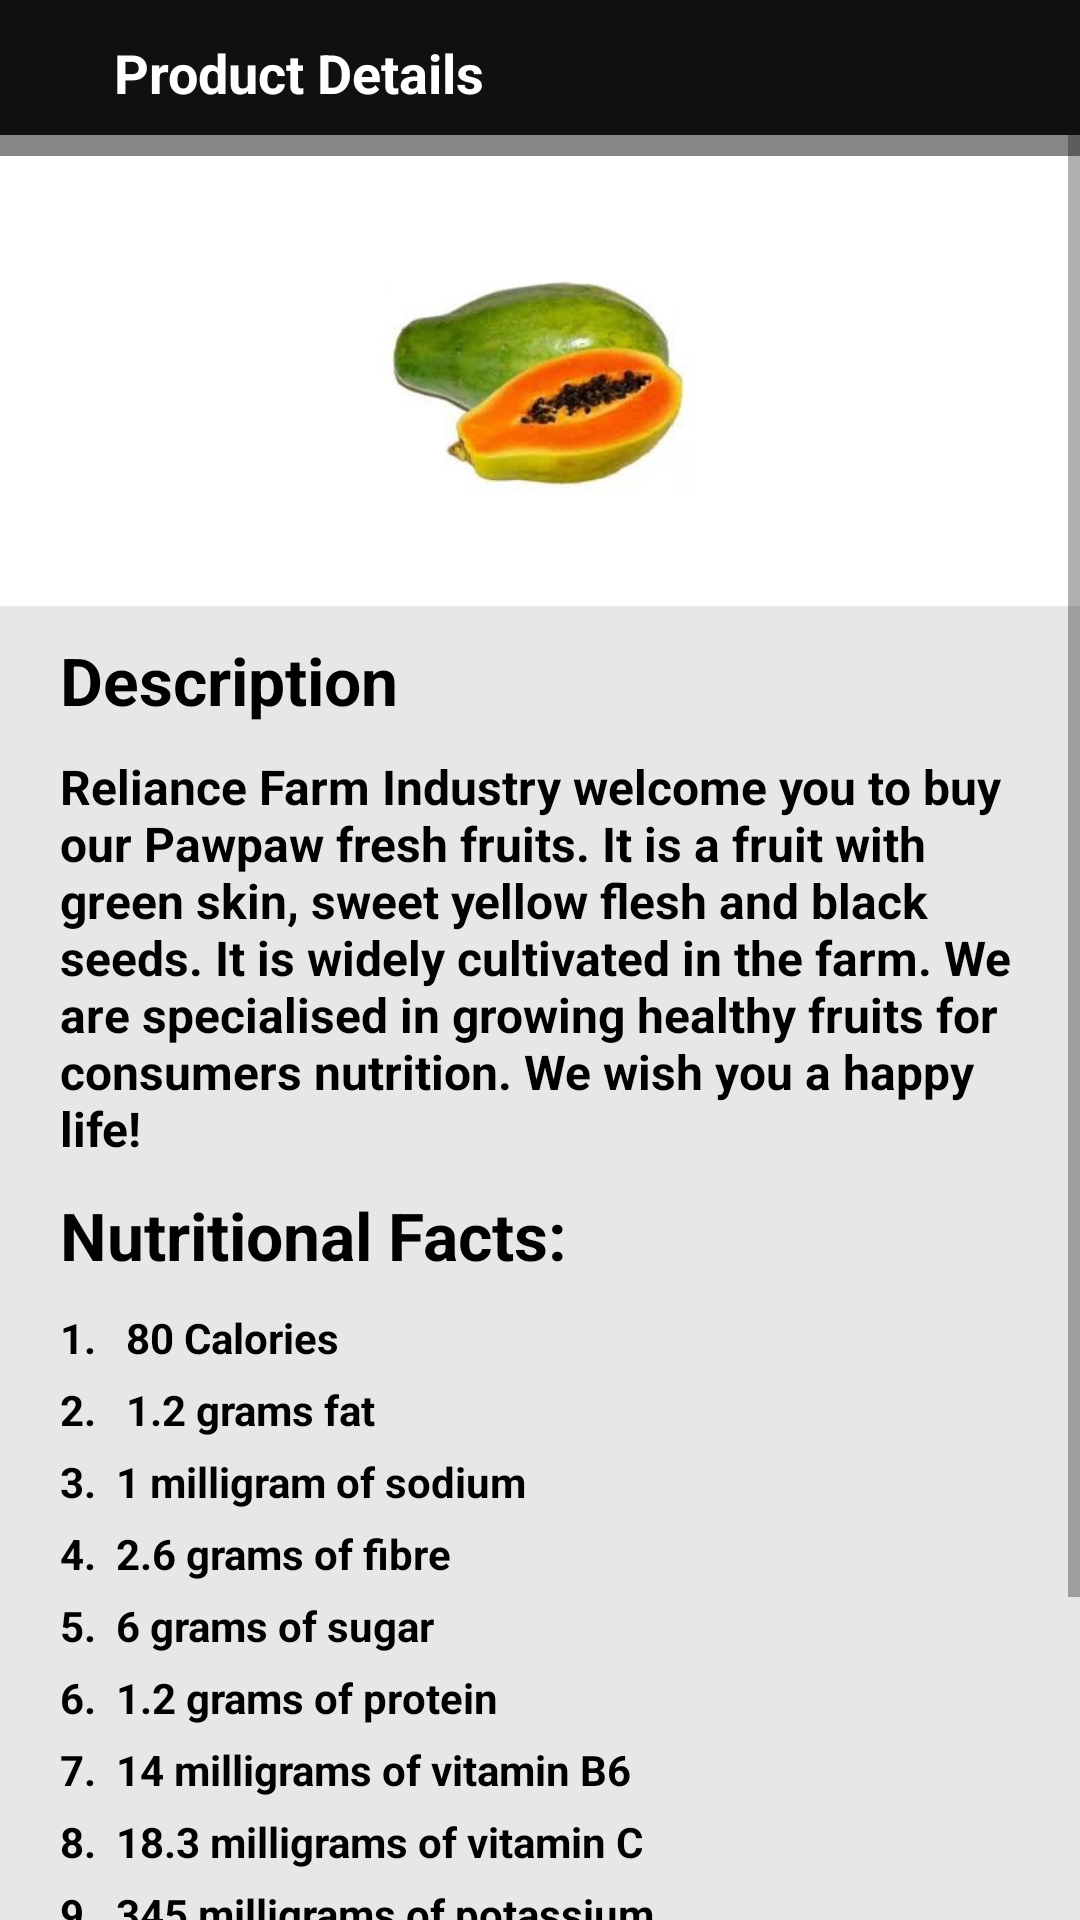

Icon bounding boxes for this 1080×1920 phone screenshot, format (x1, y1, x2, y2):
pawpaw: (392, 282, 685, 486)
